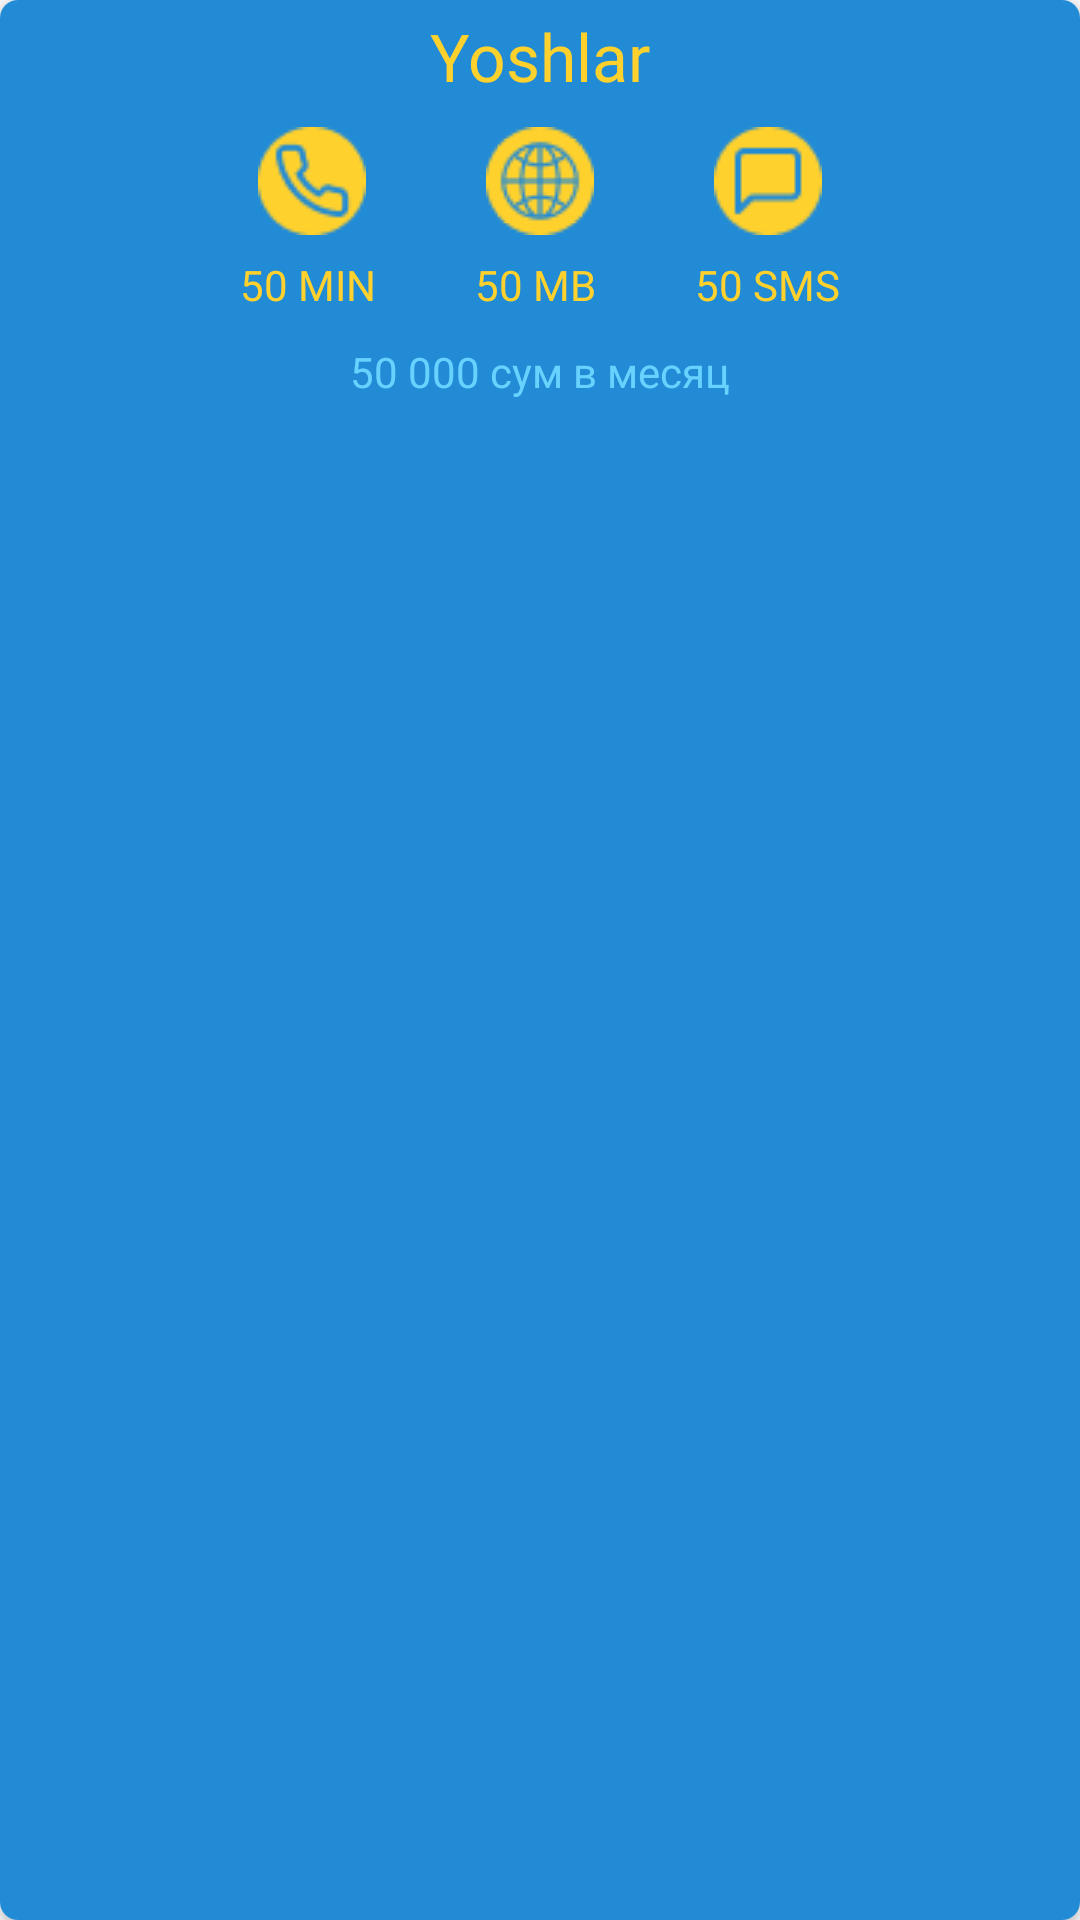

Icon click points for this 1080w x 1920h phone screenshot, format [x,y]:
earth: [540,181]
message: [768,181]
phone: [312,181]
